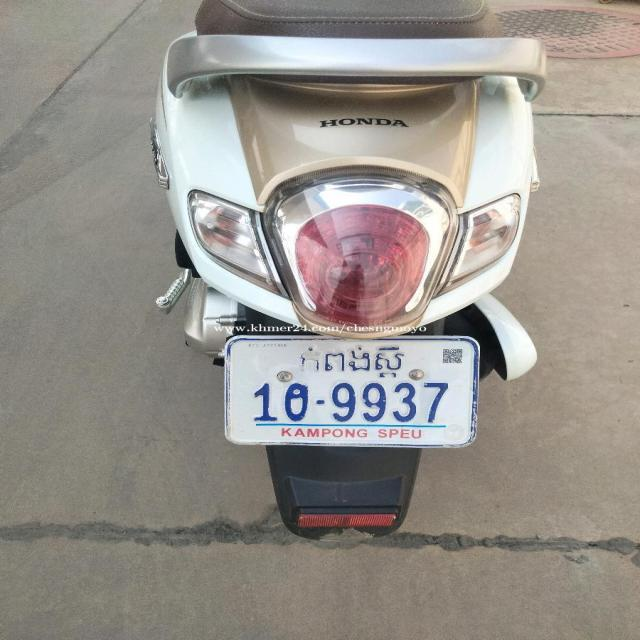Kampong_Speu: (291, 344, 406, 384)
